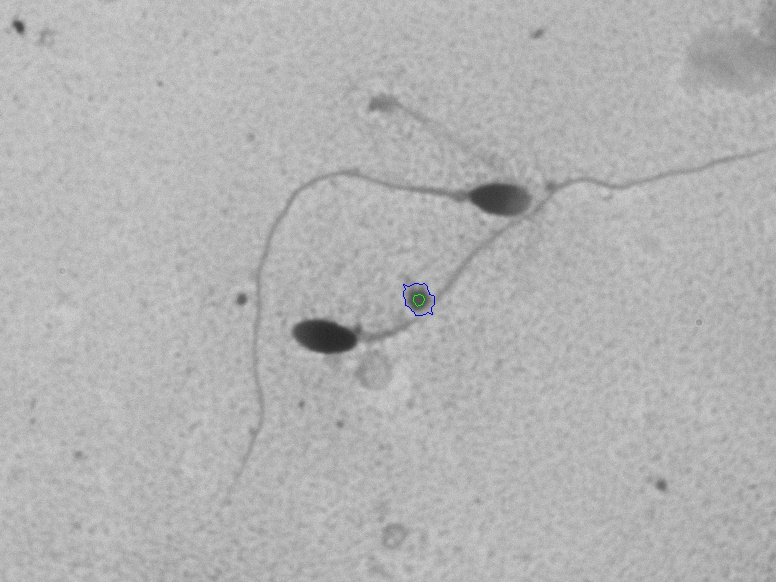Abnormal: (278, 292, 478, 392)
Normal: (180, 152, 544, 522)
